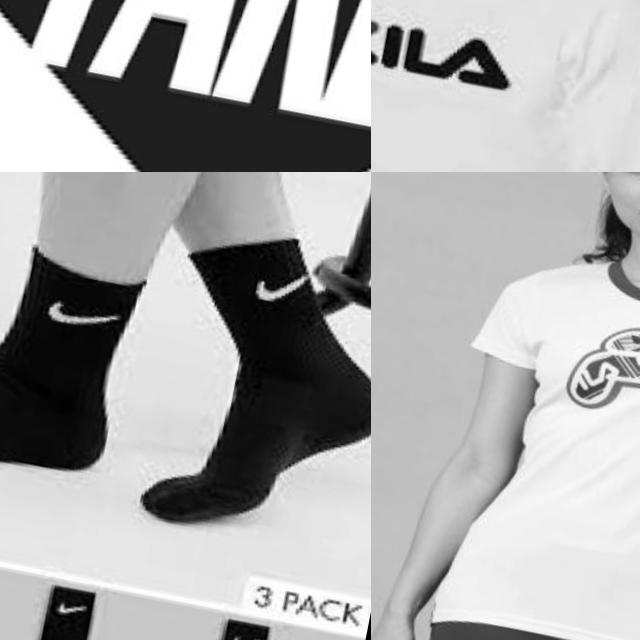FILA_fake: (371, 0, 572, 122)
FILA_original: (560, 297, 640, 442)
NIKE_fake: (3, 0, 371, 172)
NIKE_original: (19, 271, 142, 357), (27, 580, 108, 640)
